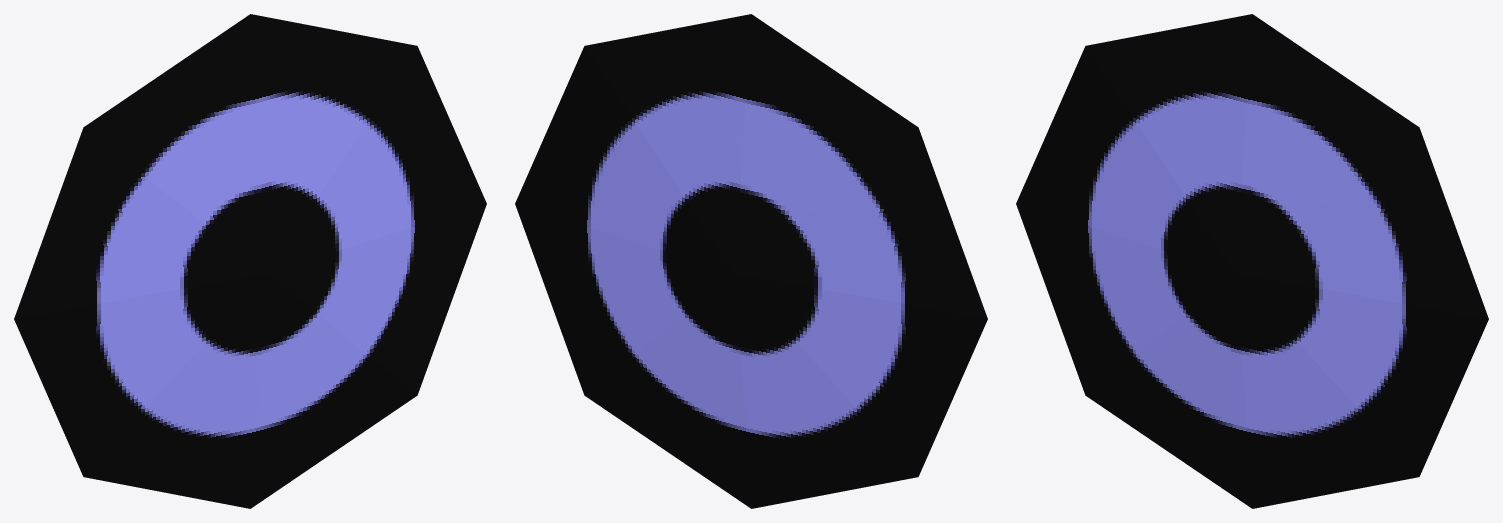
The model's file is uvmd-0255.glb.
3 renders of one model, left to right at view 1: azimuth 30°, elevation 25°; view 2: azimuth 150°, elevation 25°; view 3: azimuth 330°, elevation 25°, orthographic.
Parts seen in each view (by area): view 1: uvmd-0255; view 2: uvmd-0255; view 3: uvmd-0255.
Boxes of the visible parts, x1=… form: uvmd-0255: x1=14, y1=14, x2=486, y2=508; uvmd-0255: x1=515, y1=14, x2=987, y2=508; uvmd-0255: x1=1016, y1=14, x2=1488, y2=508.
Size of the model in its own units: 1812 by 1812 by 218.
Materials: 1 (1 with a texture image).
